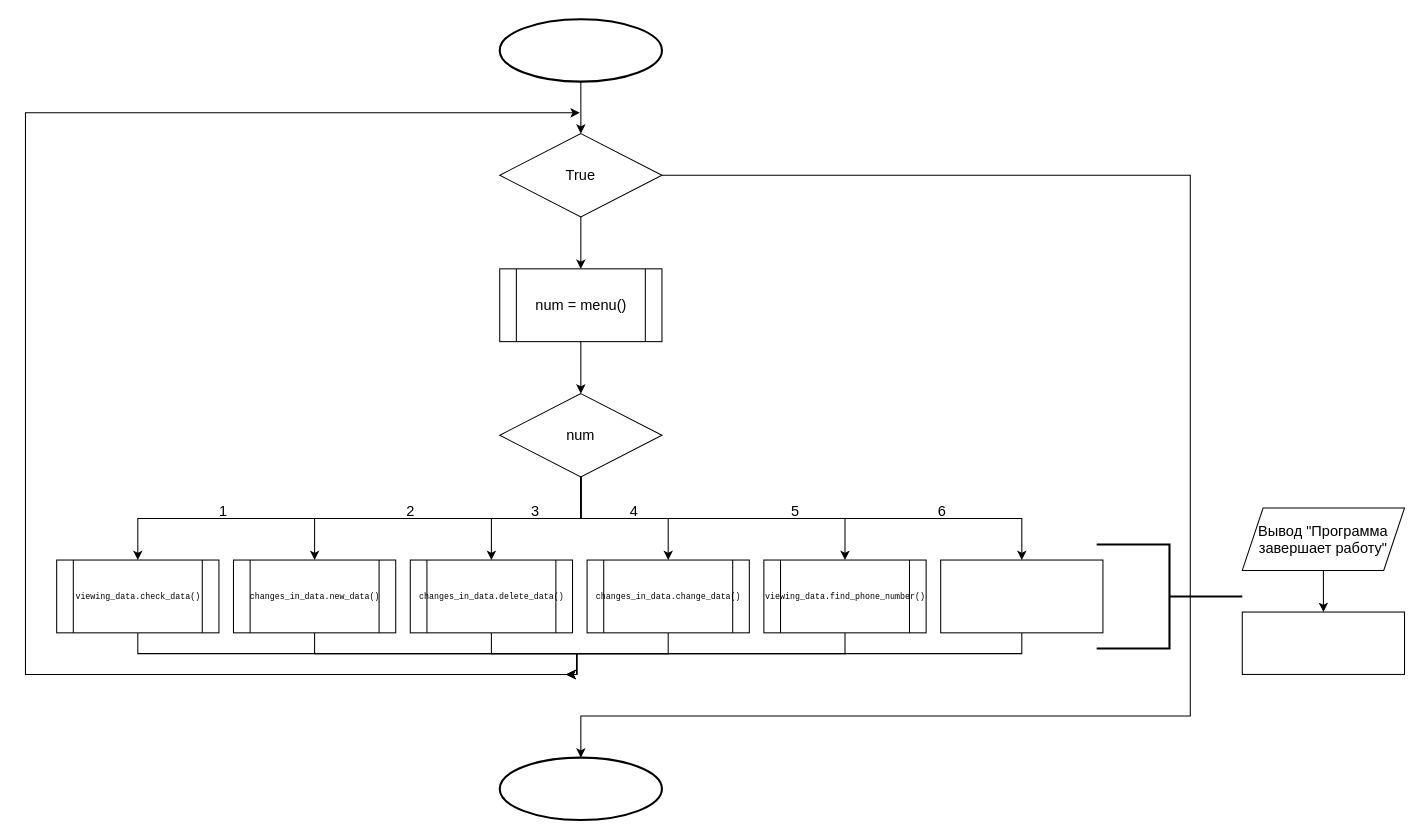
This 1423x838 diagram has some shape labels left out. The centre of each missing label's shape, as x and y in pixels:
"break" belongs at point (1323, 642).
"Завершение работы программы" belongs at point (1021, 596).
"Конец" belongs at point (580, 788).
"Начало" belongs at point (580, 50).
